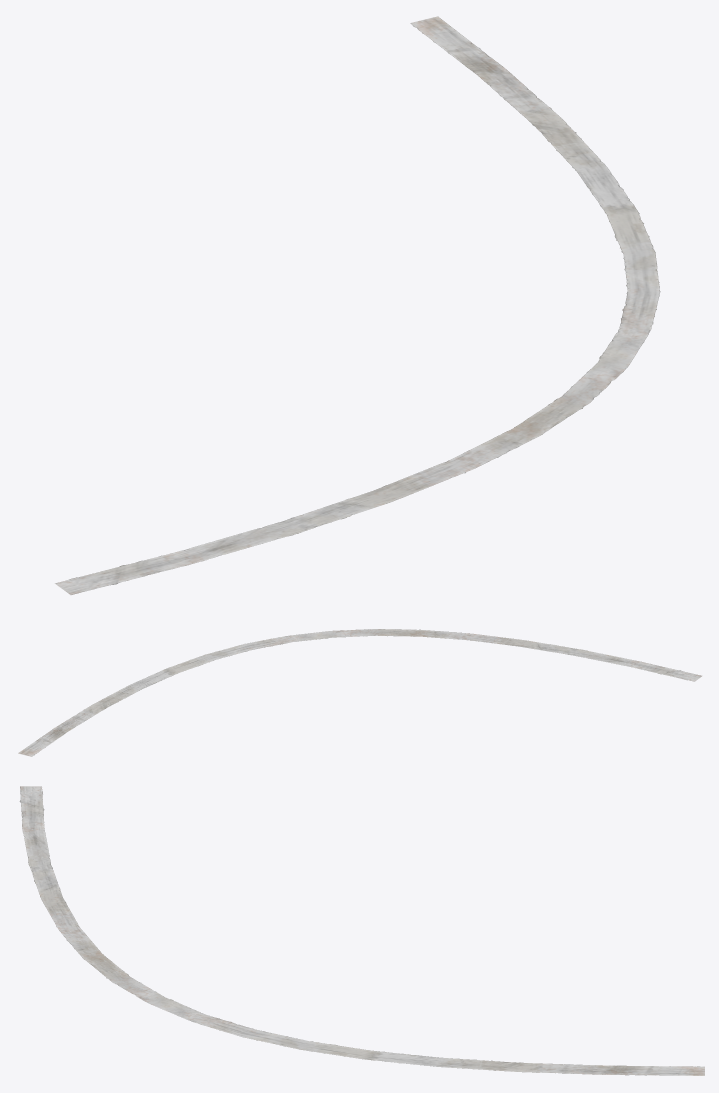
File: HH_Markup_Angle_2x2m.fbx
3 views of the same model, one above another, from view 1: azimuth 30°, elevation 25°; view 2: azimuth 150°, elevation 25°; view 3: azimuth 270°, elevation 25° (orthographic). The views are drawn at different scales.
Visible parts, largest first — view 1: HH_Markup_Angle_2x2m; view 2: HH_Markup_Angle_2x2m; view 3: HH_Markup_Angle_2x2m.
Part boxes in pixels (bbox=[...]): HH_Markup_Angle_2x2m: bbox=[55, 16, 660, 594]; HH_Markup_Angle_2x2m: bbox=[18, 629, 701, 756]; HH_Markup_Angle_2x2m: bbox=[19, 786, 704, 1075].
Bounding box in the file's own units: 308 × 0 × 308.
